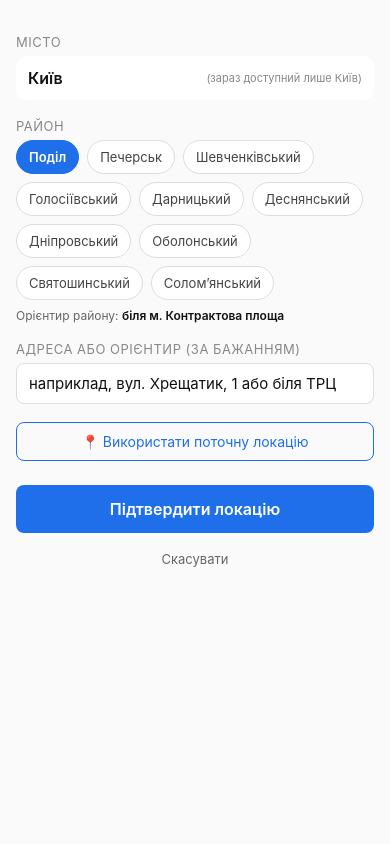
Test: Phase 3 — LocationPickerScreen › LP3: "Use current" shows the honest fallback note
Click the element with test id "location-picker-use-current" at (195, 442), box x1=16 y1=422 x2=374 y2=461
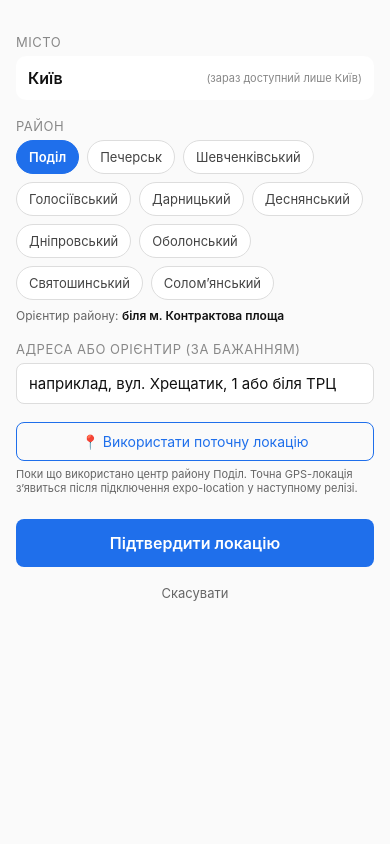
Expected: the text with test id "location-picker-fallback-note" is shown, x1=16 y1=467 x2=374 y2=495
